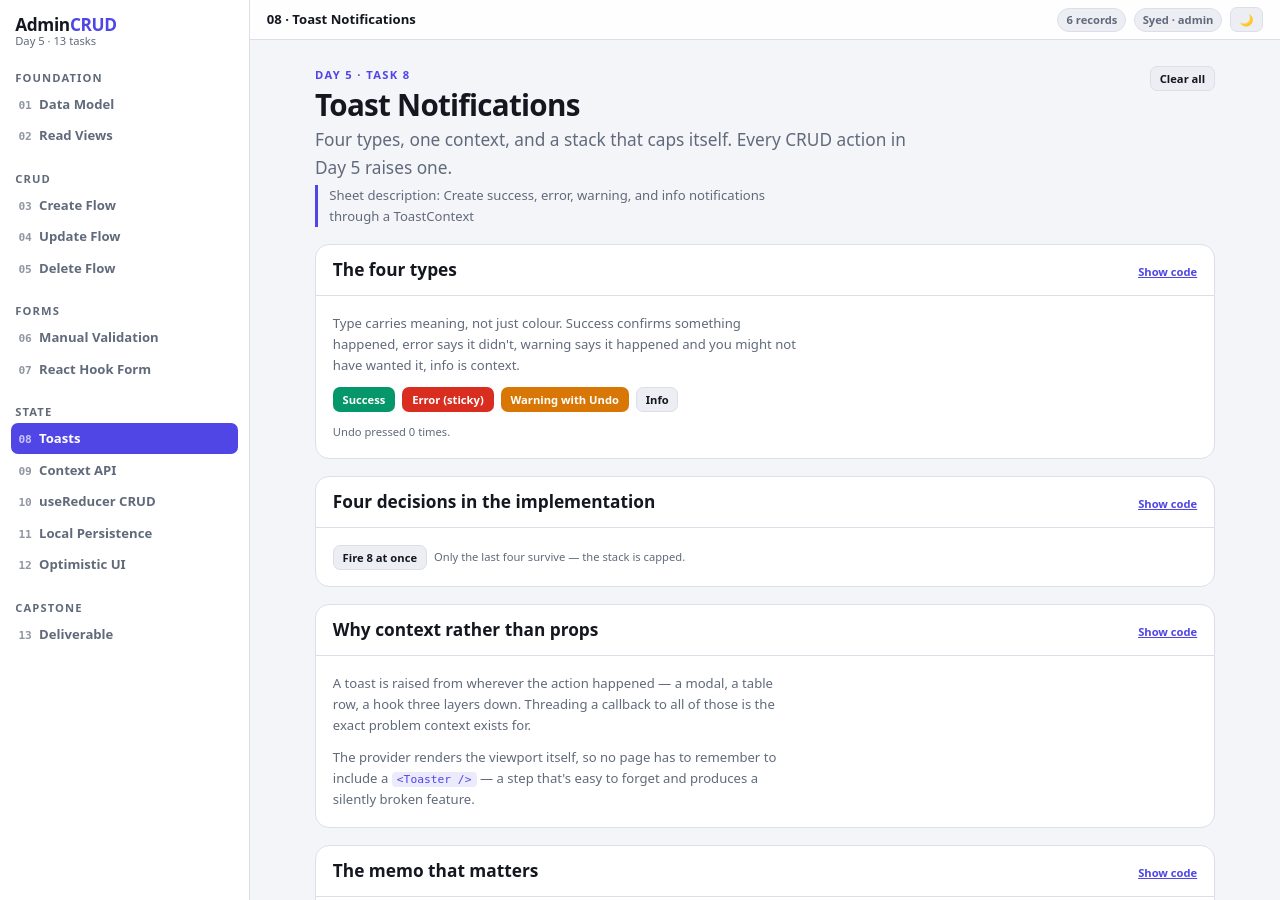
Test: task 8 — toasts › caps the stack
The image size is (1280, 900).
Expected: the text "Day 5 · Task 8" is shown, [315, 67, 410, 82]
Click the button "Fire 8 at once" at coordinates (380, 557), box [333, 544, 427, 570]
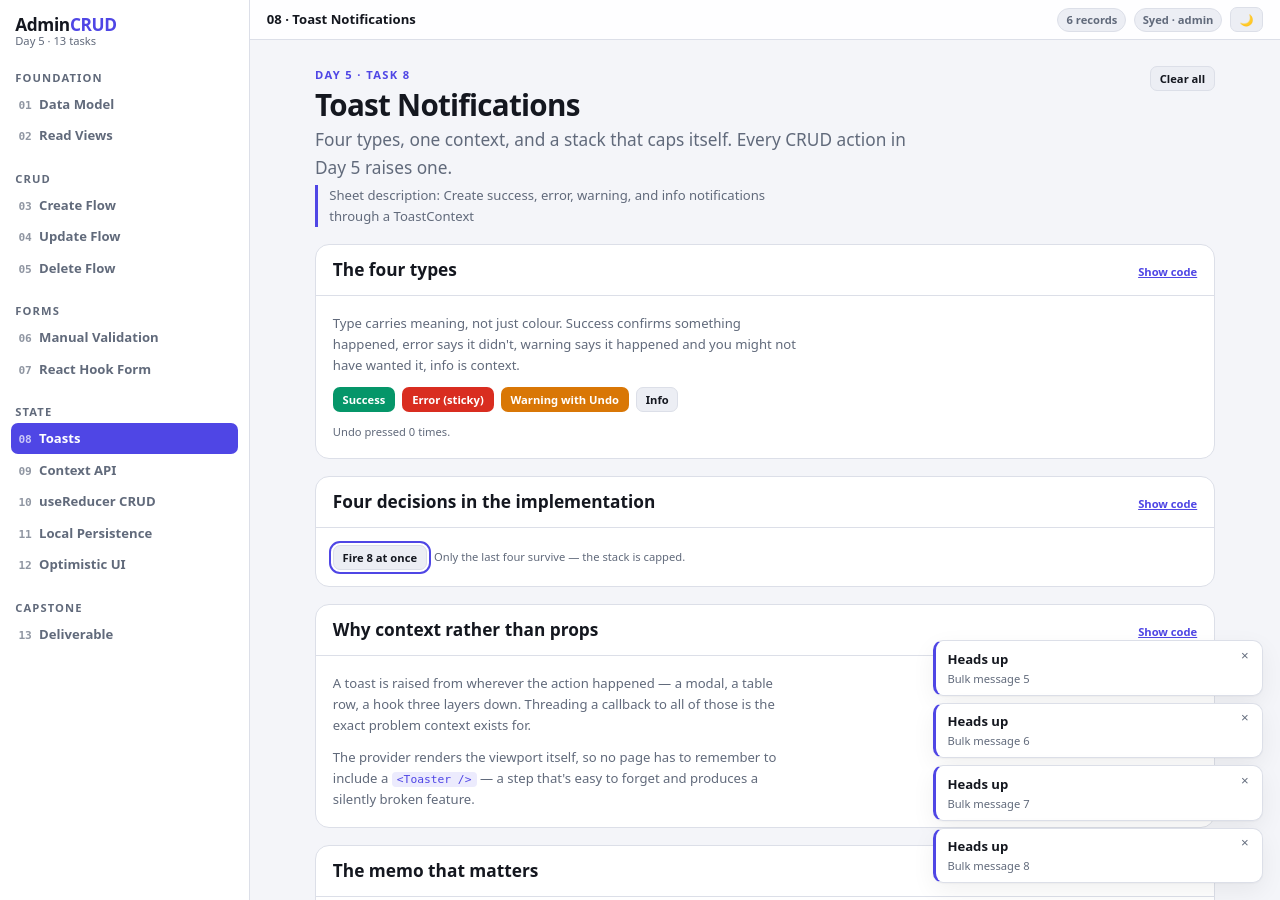
Expected: the text "Bulk message 8" is shown, [947, 858, 1030, 873]
